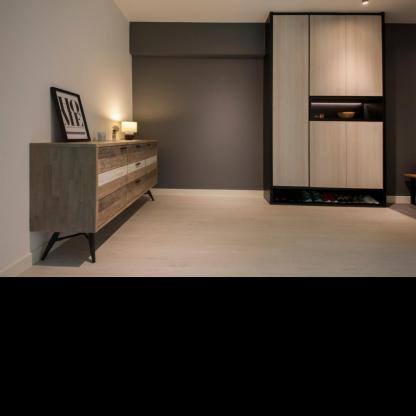Sideboard: (29, 140, 158, 233)
